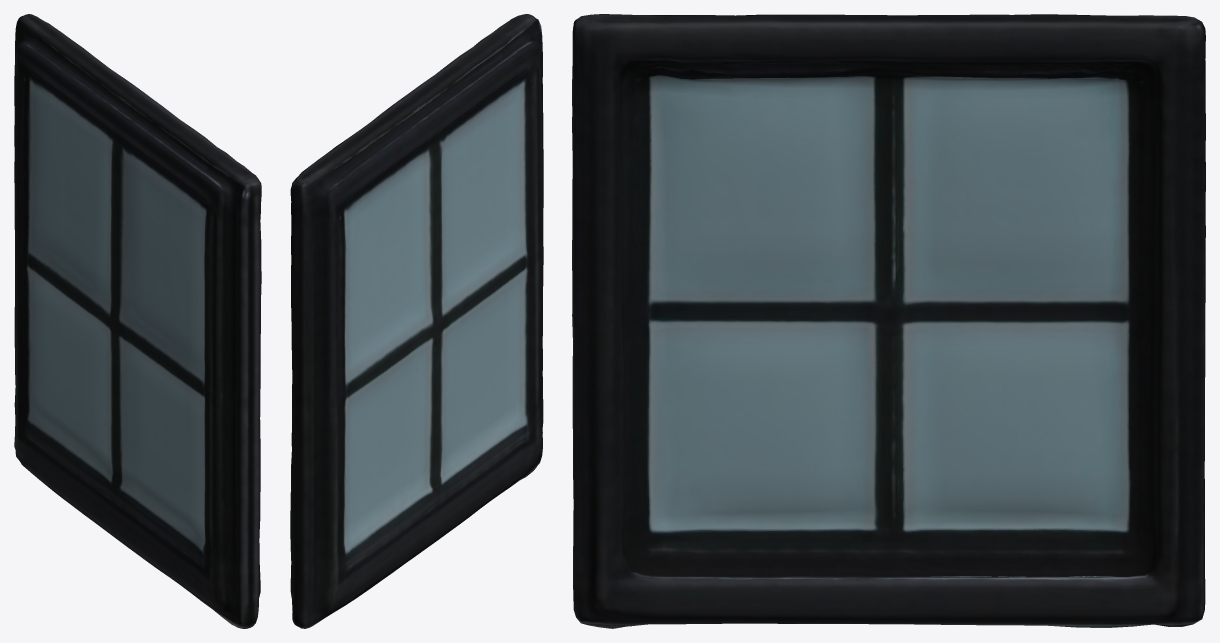
The model's file is 5290b922af0b_Four_paneled_square.fbx.
3 views of the same model, side by side, from view 1: azimuth 30°, elevation 25°; view 2: azimuth 150°, elevation 25°; view 3: azimuth 270°, elevation 25° (orthographic). The views are drawn at different scales.
Visible parts, largest first — view 1: mesh; view 2: mesh; view 3: mesh.
Boxes of the visible parts, x1,y1,x2,y2 form: mesh: (14,14,261,628); mesh: (290,14,543,628); mesh: (572,14,1205,628).
Size of the model in its own units: 10.14 by 99.44 by 93.26.
